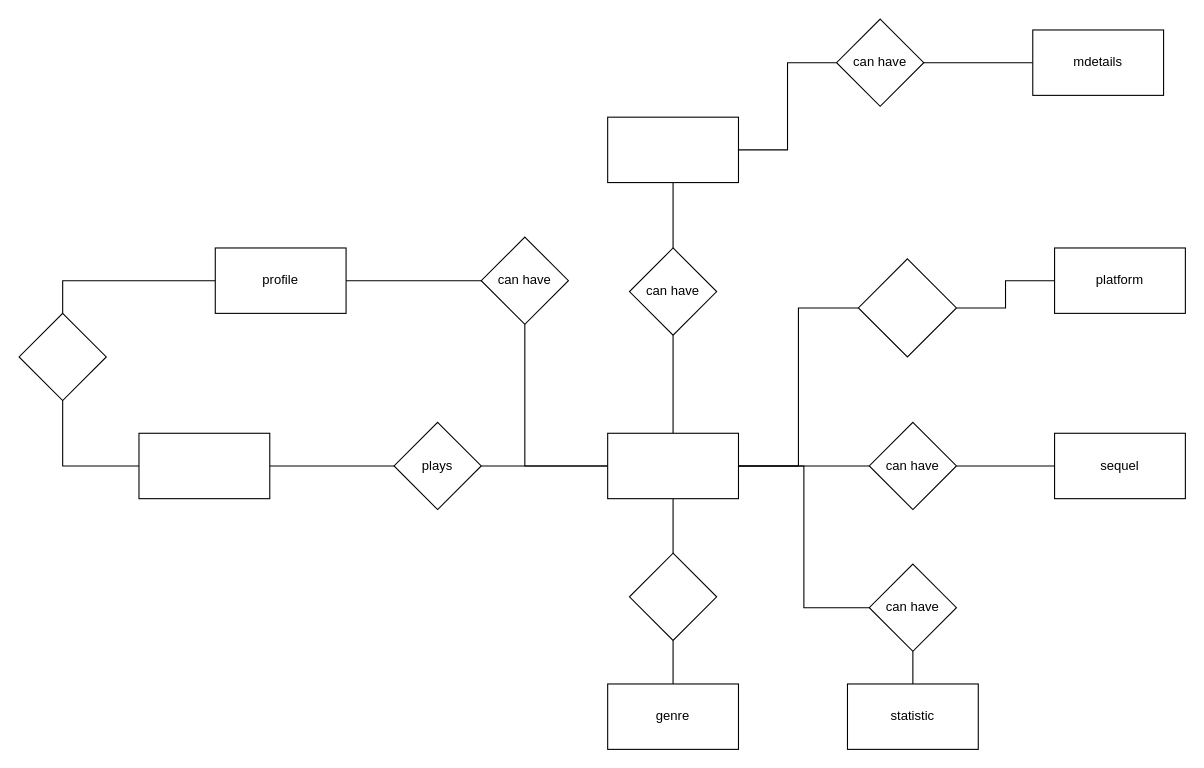
Some shapes in this 1204 by 768 pixel diagram are drawn without their labels. Each missing label, with the centre of its shape:
can be played: point (906, 307)
game: point (672, 465)
has: point (672, 596)
is connected: point (62, 356)
modification: point (672, 149)
user: point (204, 465)
